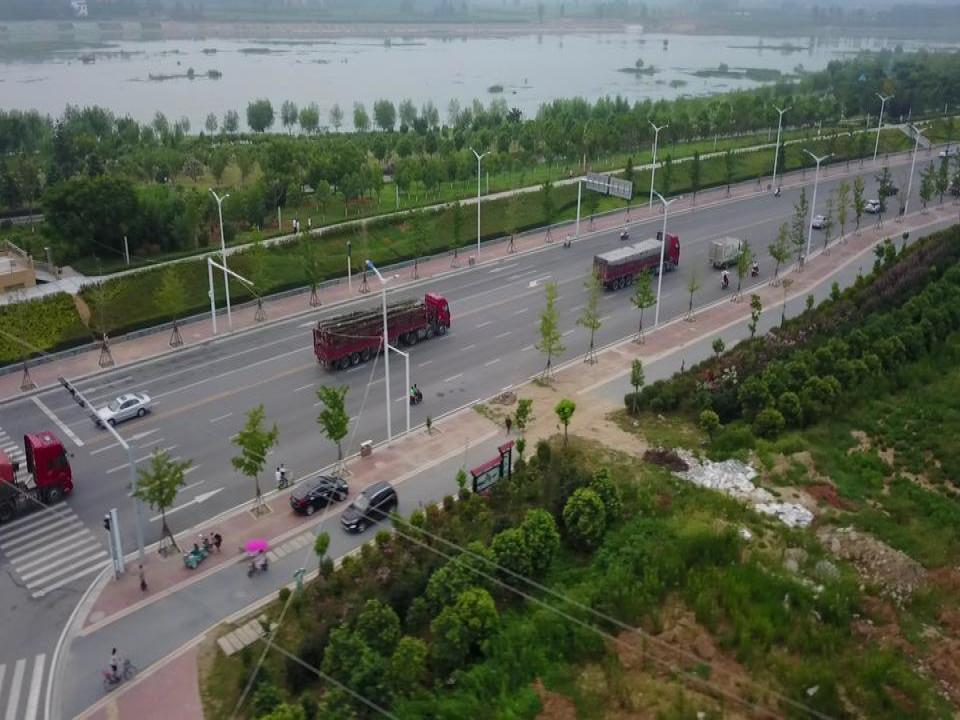car: (340, 480, 398, 532), (289, 476, 349, 515), (95, 392, 151, 428), (810, 215, 832, 229), (865, 200, 886, 213), (877, 185, 899, 196)
truck: (312, 292, 450, 369), (592, 230, 680, 290), (709, 236, 745, 268)
